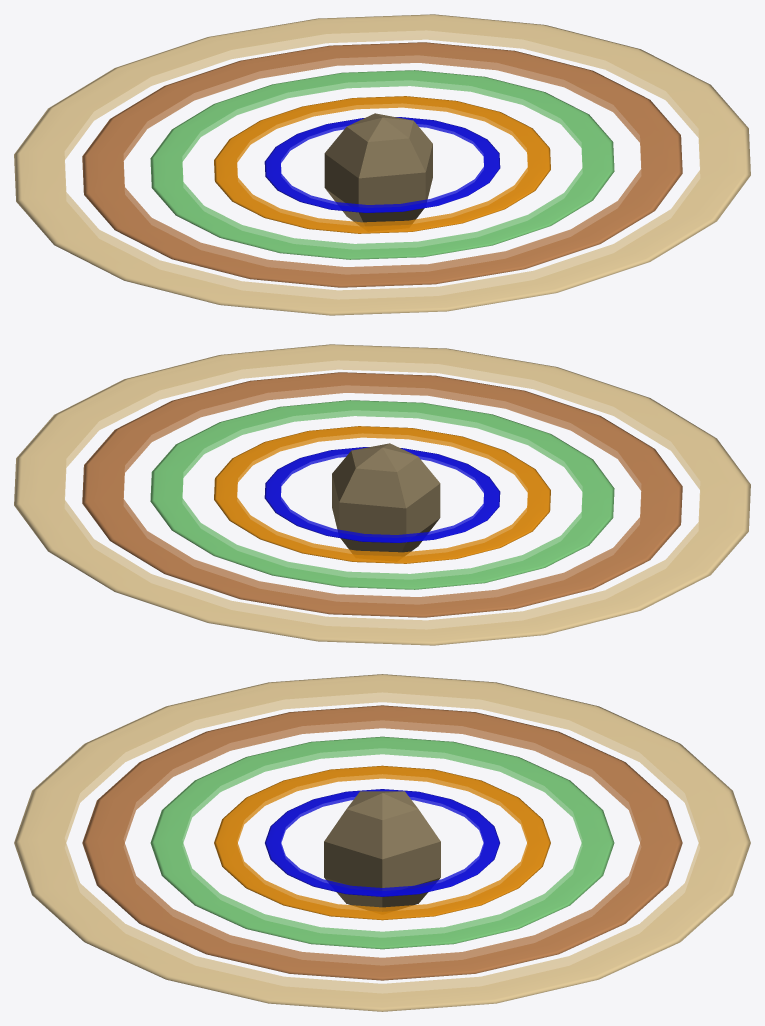
Rendered from anillos.fbx.
3 views of the same model, one above another, from view 1: azimuth 30°, elevation 25°; view 2: azimuth 150°, elevation 25°; view 3: azimuth 270°, elevation 25° (orthographic). The views are drawn at different scales.
Parts seen in each view (by area): view 1: polySurface2; view 2: polySurface2; view 3: polySurface2.
Part boxes in pixels (box(x1,y1,x2,y2)): polySurface2: box(14, 14, 750, 315); polySurface2: box(14, 344, 750, 645); polySurface2: box(14, 674, 750, 1011).
Bounding box in the file's own units: 12.38 × 2 × 11.42.
